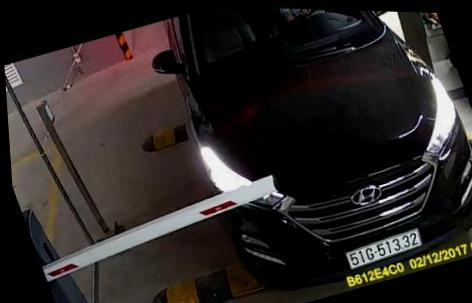License_Plate: (331, 210, 425, 272)
